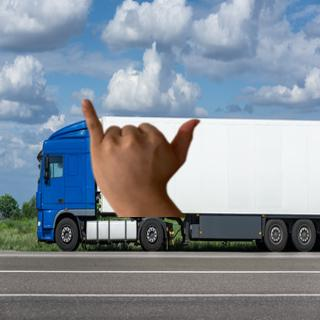HAVE: (76, 90, 204, 211)
